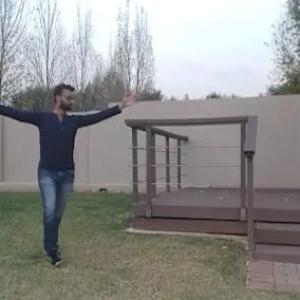takeoff: (0, 80, 143, 268)
